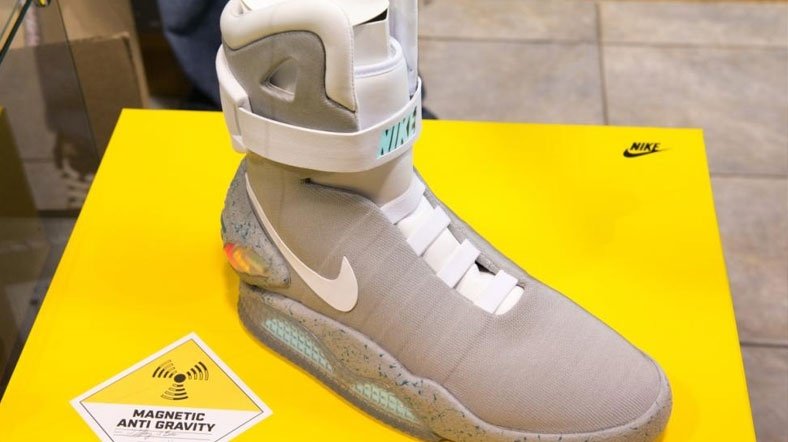nike: (250, 180, 360, 317)
